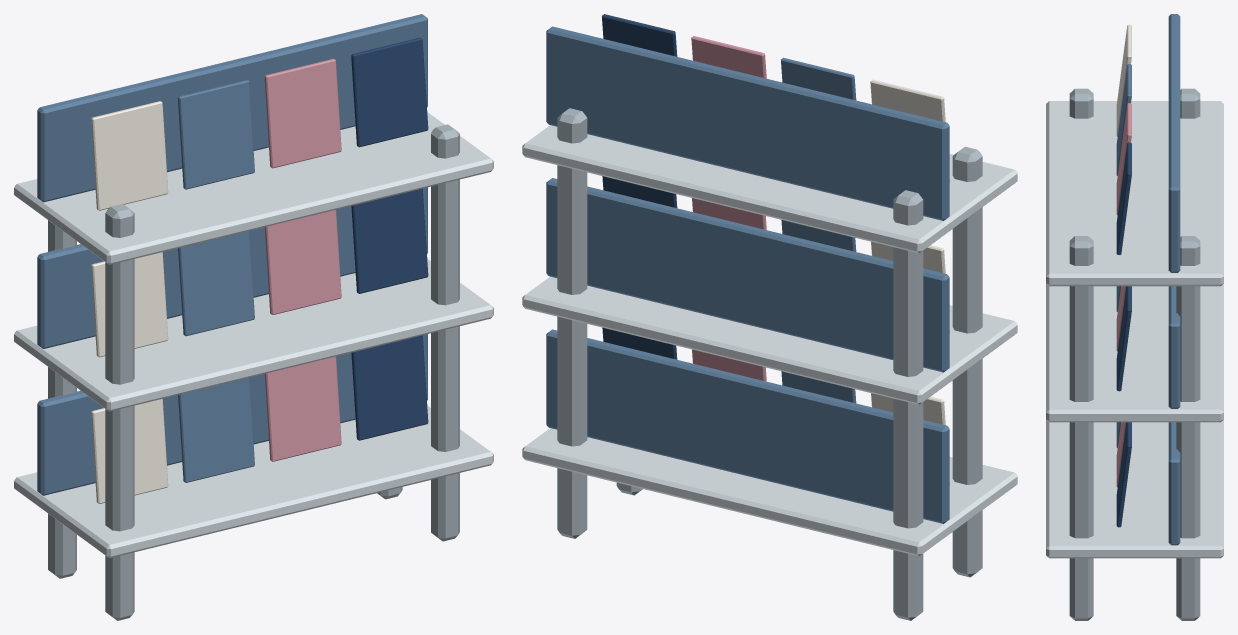
File: campus_08.glb
The picture shows the model from 3 angles, left to right: view 1: azimuth 30°, elevation 25°; view 2: azimuth 150°, elevation 25°; view 3: azimuth 270°, elevation 25°; orthographic projection. The views are drawn at different scales.
Parts seen in each view (by area): view 1: Magazine (×12), MagazineShelf (×3), MagazineBack (×3), Leg (×3); view 2: MagazineBack (×3), MagazineShelf (×3), Leg (×3), Magazine (×12); view 3: MagazineShelf (×3), Leg (×4), MagazineBack (×3), Magazine (×8).
Part boxes in pixels (x1=…): Magazine (×12): x1=91, y1=37, x2=428, y2=503; MagazineShelf (×3): x1=14, y1=112, x2=493, y2=558; MagazineBack (×3): x1=37, y1=14, x2=427, y2=495; Leg (×3): x1=48, y1=124, x2=459, y2=620; MagazineBack (×3): x1=546, y1=26, x2=949, y2=523; MagazineShelf (×3): x1=522, y1=125, x2=1017, y2=556; Leg (×3): x1=557, y1=108, x2=982, y2=620; Magazine (×12): x1=602, y1=14, x2=949, y2=485; MagazineShelf (×3): x1=1046, y1=101, x2=1223, y2=558; Leg (×4): x1=1069, y1=88, x2=1200, y2=620; MagazineBack (×3): x1=1168, y1=14, x2=1180, y2=545; Magazine (×8): x1=1116, y1=24, x2=1131, y2=527.
Bounding box in the file's own units: 1.05 × 1.24 × 0.45.
